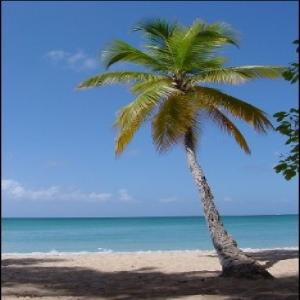palm tree: (76, 17, 283, 280)
